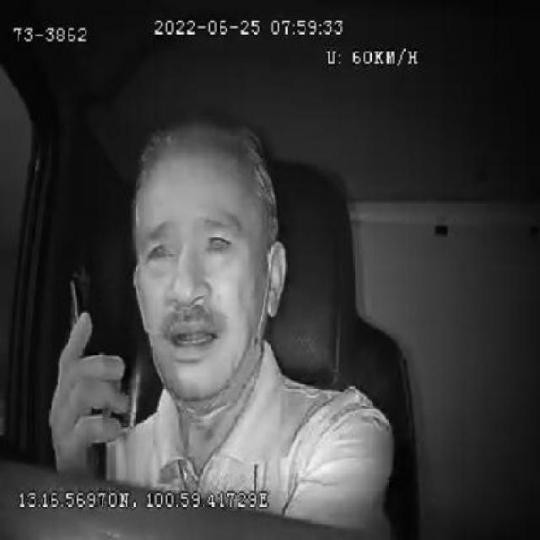phone: (60, 278, 111, 486)
